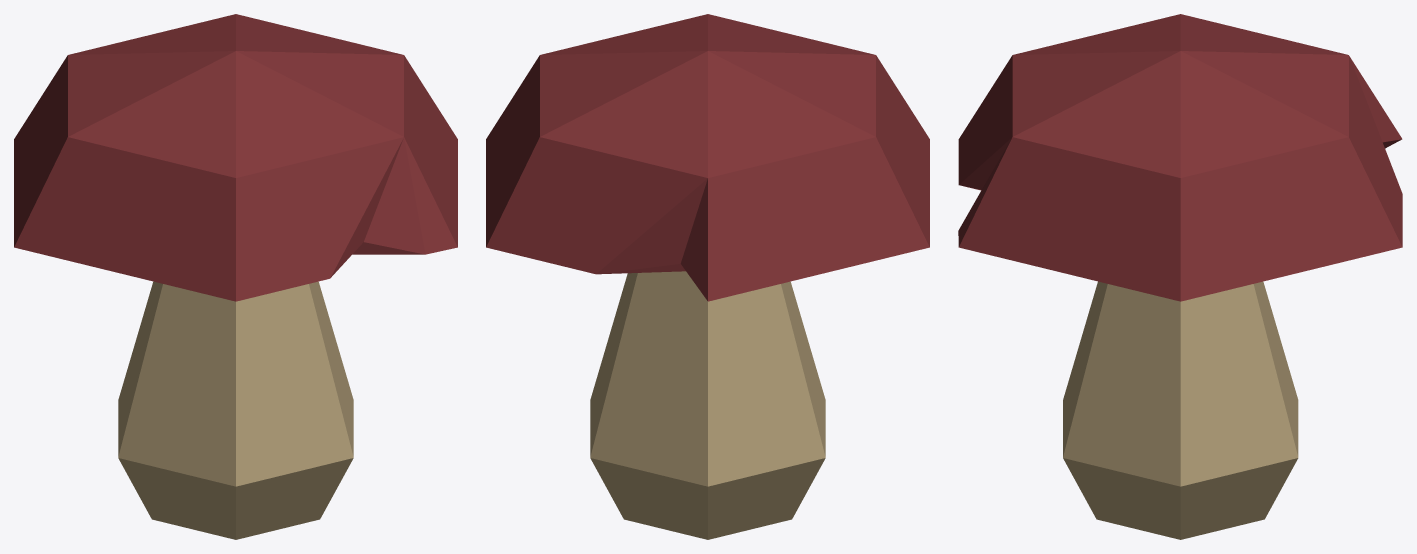
The model's file is mushroom.glb.
3 renders of one model, left to right at view 1: azimuth 30°, elevation 25°; view 2: azimuth 150°, elevation 25°; view 3: azimuth 270°, elevation 25°, orthographic.
Visible parts, largest first — view 1: SM_Env_Mushroom_01; view 2: SM_Env_Mushroom_01; view 3: SM_Env_Mushroom_01.
Boxes of the visible parts, bbox=[...] form: SM_Env_Mushroom_01: bbox=[14, 14, 457, 539]; SM_Env_Mushroom_01: bbox=[486, 14, 929, 539]; SM_Env_Mushroom_01: bbox=[958, 14, 1402, 539].
Bounding box in the file's own units: 62.76 × 60.53 × 54.4.
Materials: 1 (1 with a texture image).
